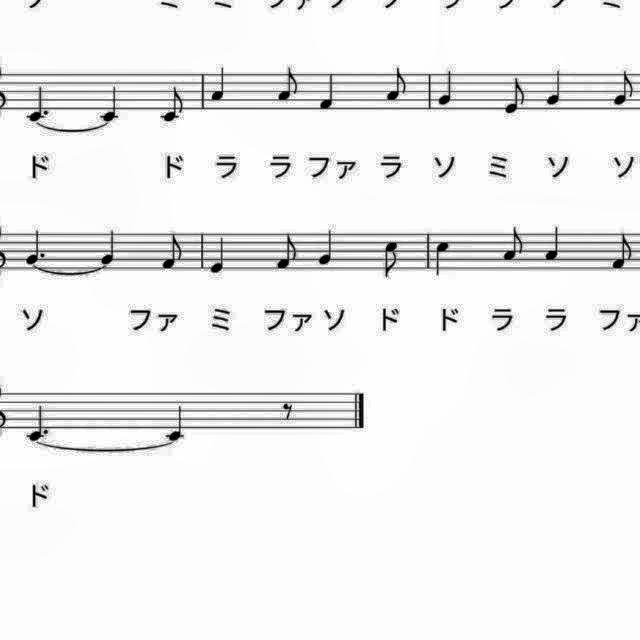Eighth-note: (154, 84, 188, 128), (609, 228, 639, 274), (272, 228, 302, 274), (158, 228, 188, 274), (609, 68, 639, 112), (381, 64, 411, 108), (273, 64, 303, 108), (499, 72, 529, 116), (497, 224, 527, 266), (379, 237, 405, 285)
Eighth-rest: (278, 398, 298, 424)
Half-dot: (21, 227, 51, 270)
Quarter-dot: (22, 82, 56, 125), (19, 402, 53, 444)
Quarter-note: (315, 69, 341, 115), (96, 82, 124, 124), (162, 401, 190, 443), (314, 225, 340, 269), (542, 66, 566, 112), (540, 222, 564, 266), (208, 232, 232, 276), (436, 66, 460, 110), (208, 62, 232, 106), (430, 237, 454, 280), (98, 226, 122, 266)
